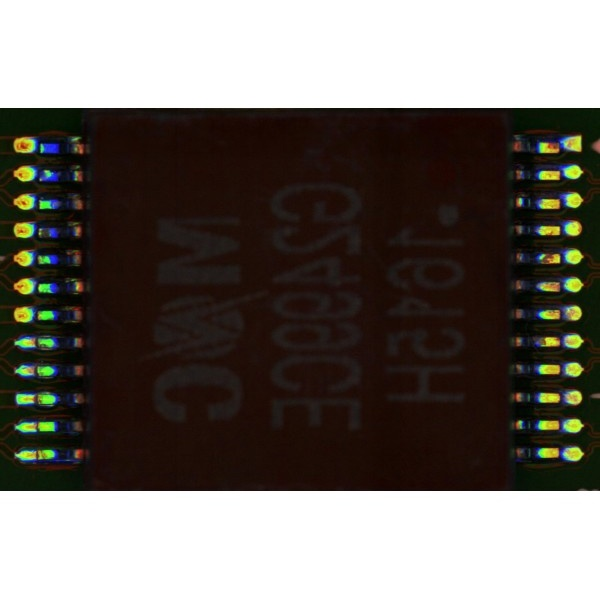Bad_podu: (25, 423, 47, 431), (23, 396, 46, 403), (27, 339, 45, 347), (27, 452, 47, 458), (27, 368, 46, 374)
